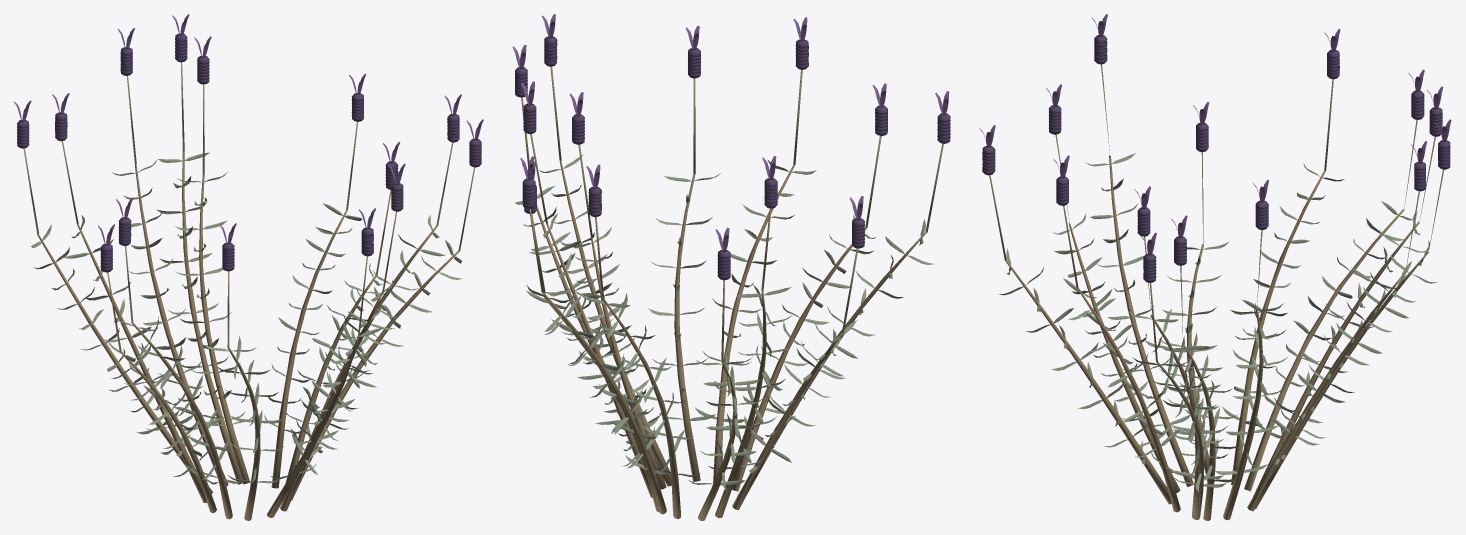
File: Lavande_0_Niveau0.fbx
3 renders of one model, left to right at view 1: azimuth 30°, elevation 25°; view 2: azimuth 150°, elevation 25°; view 3: azimuth 270°, elevation 25°, orthographic. The views are drawn at different scales.
Visible parts, largest first — view 1: Lavande_0_Niveau0_Jeu; view 2: Lavande_0_Niveau0_Jeu; view 3: Lavande_0_Niveau0_Jeu.
Boxes of the visible parts, bbox=[...] form: Lavande_0_Niveau0_Jeu: bbox=[14, 14, 483, 520]; Lavande_0_Niveau0_Jeu: bbox=[512, 14, 950, 520]; Lavande_0_Niveau0_Jeu: bbox=[979, 14, 1451, 520].
Size of the model in its own units: 49.14 by 47.89 by 50.37.
